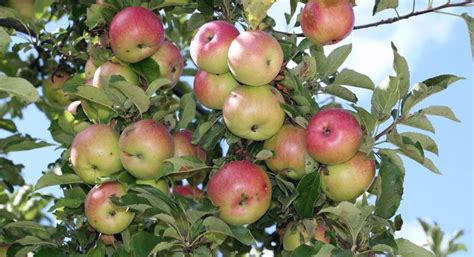apple: (205, 159, 276, 227), (106, 5, 168, 63), (304, 105, 363, 165), (226, 29, 285, 87), (297, 1, 358, 52)
